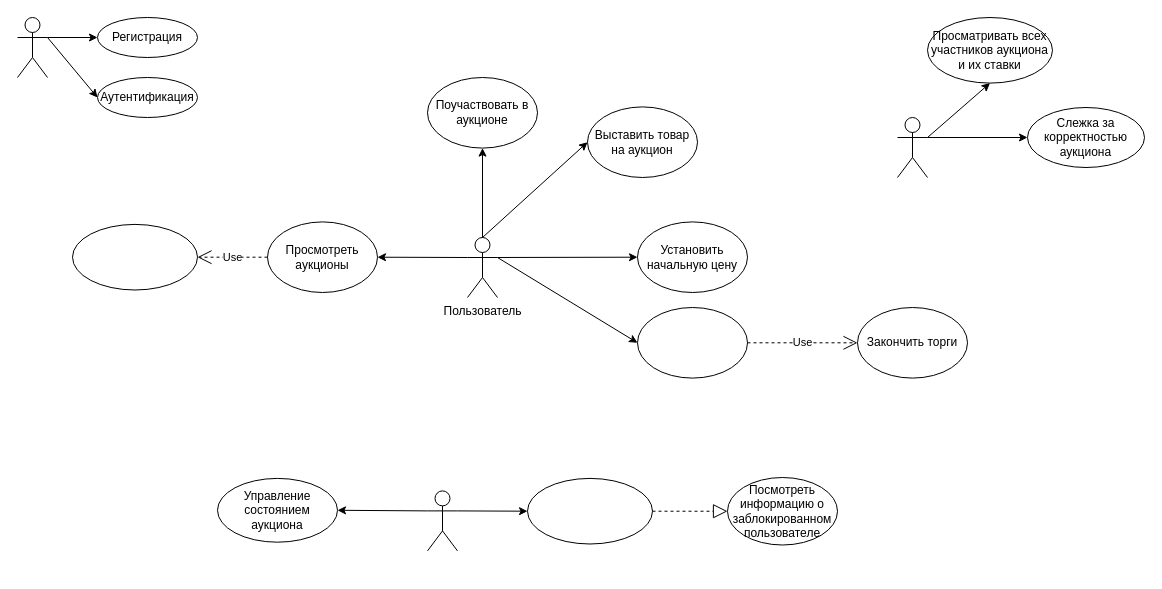
The diagram is 1162 pixels wide and 589 high, and some of its shapes have lost their labels. The shapes that lost their labels are listed below. From the top down, each one's box as (x1, y1, x2, y2) in pixels, then its label:
(16, 16, 48, 78): Гость
(896, 116, 928, 178): Менеджер
(72, 223, 198, 290): Просмотреть ставки на них
(636, 306, 748, 378): Установить время торгов
(426, 490, 458, 551): Администратор
(526, 477, 652, 544): Заблокировать пользователя
